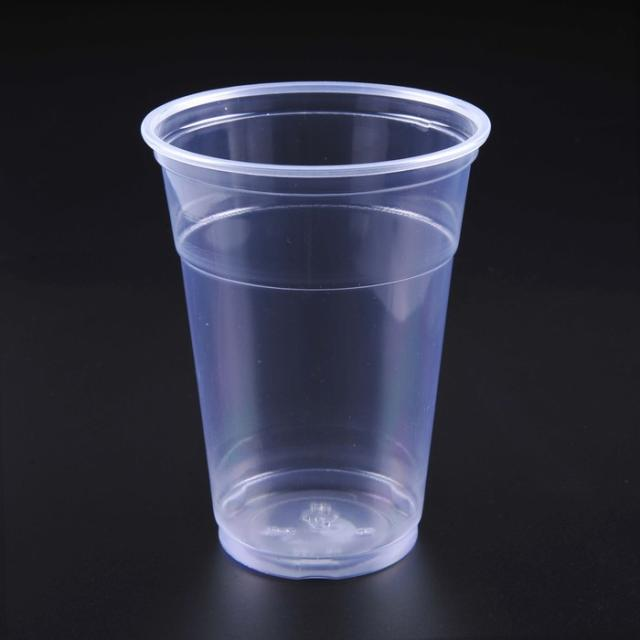Gelas: (126, 56, 528, 640)
